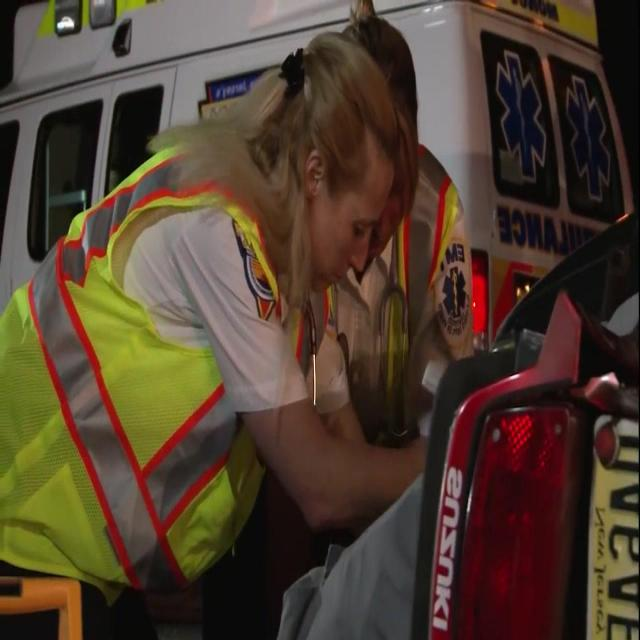Reflective-Jacket: (0, 142, 296, 598)
